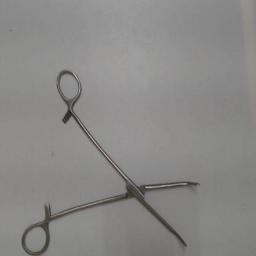Lahey Forceps: (18, 64, 204, 254)
